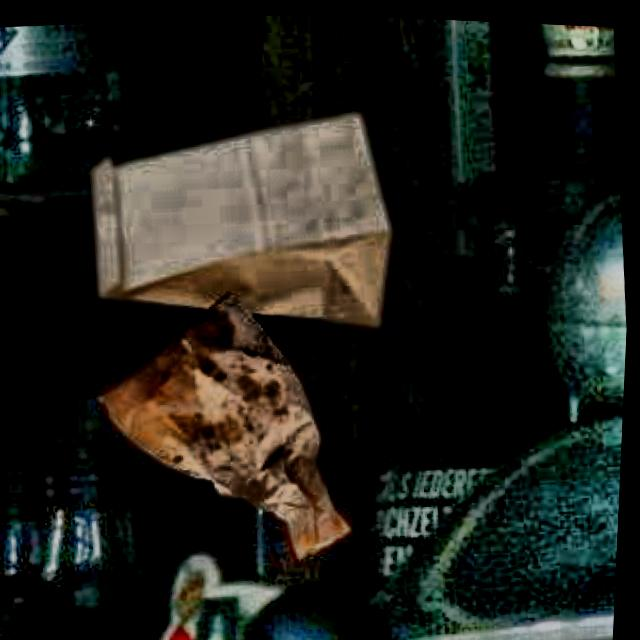Paper-bag: (58, 262, 366, 577), (66, 96, 412, 355)
